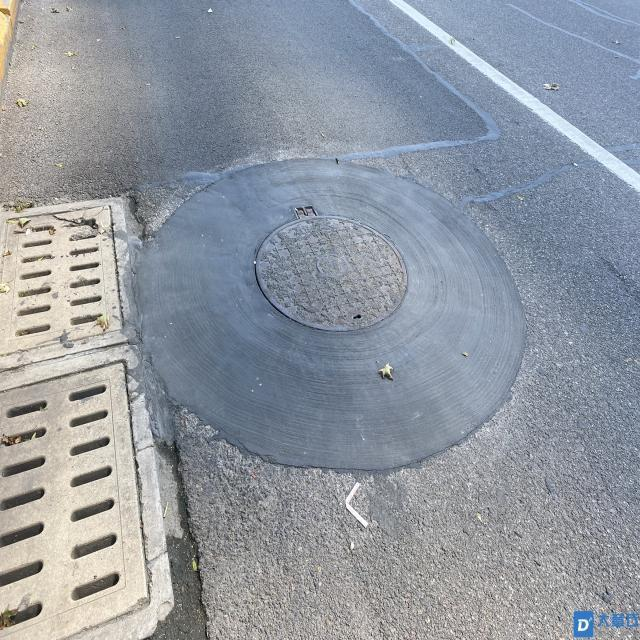manhole: (0, 201, 179, 640), (253, 209, 409, 332)
